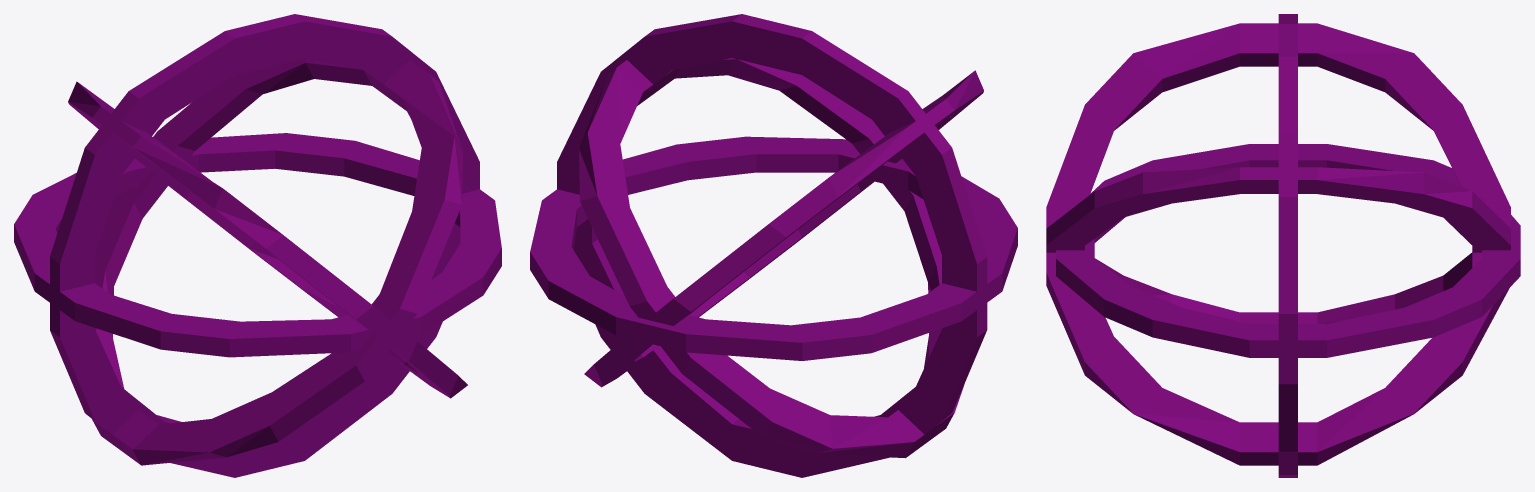
Rendered from model_3107_spotanim.obj.
The picture shows the model from 3 angles, left to right: view 1: azimuth 30°, elevation 25°; view 2: azimuth 150°, elevation 25°; view 3: azimuth 270°, elevation 25°; orthographic projection. The views are drawn at different scales.
Visible parts, largest first — view 1: 3107; view 2: 3107; view 3: 3107.
Part boxes in pixels (x1=…): 3107: x1=14, y1=14, x2=501, y2=477; 3107: x1=530, y1=14, x2=1017, y2=477; 3107: x1=1046, y1=14, x2=1520, y2=477.
Size of the model in its own units: 48 by 48 by 49.
